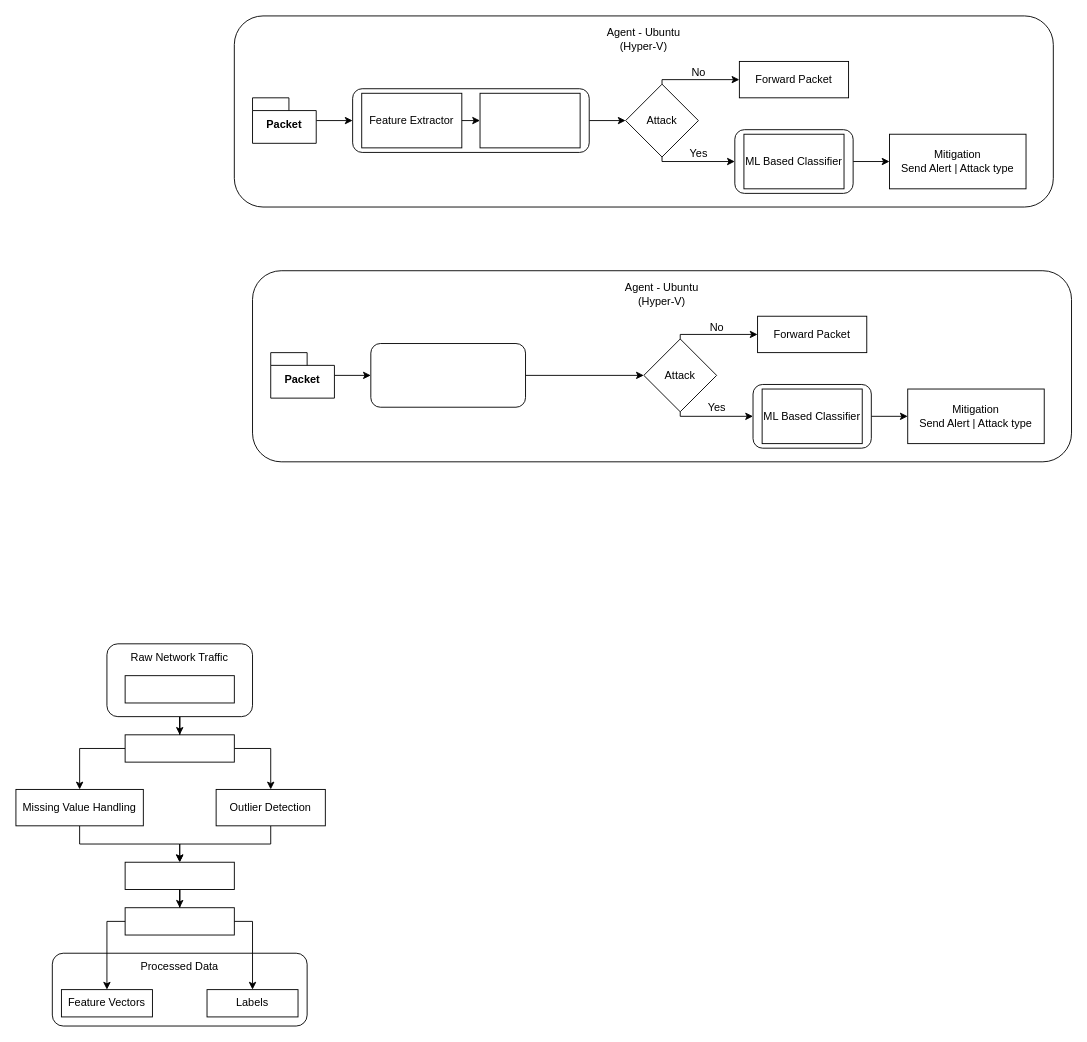
The diagram is 1087 pixels wide and 1042 high, and some of its shapes have lost their labels. The centre of each missing label's shape, as x and y in pixels:
"Feature Extraction" belongs at (179,748).
"Feature Scaling" belongs at (179,921).
"ML Based Detector (RF, ANN)" belongs at (529,120).
"Normalization" belongs at (179,875).
"Raw Traffic Data" belongs at (179,689).
